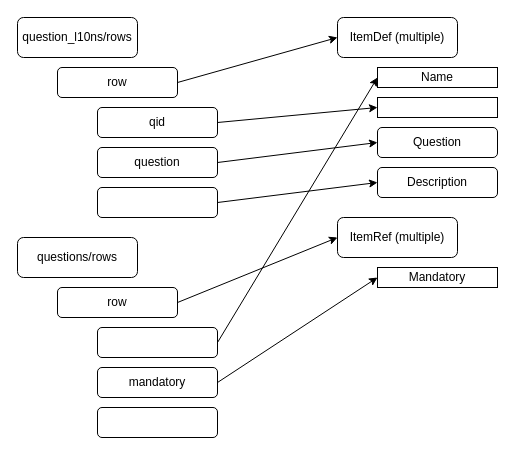
Some shapes in this 515 by 455 pixel diagram are drawn without their labels. Each missing label, with the centre of its shape:
help: the point at 157,202
OID: the point at 437,107
title: the point at 157,342
type: the point at 157,422
